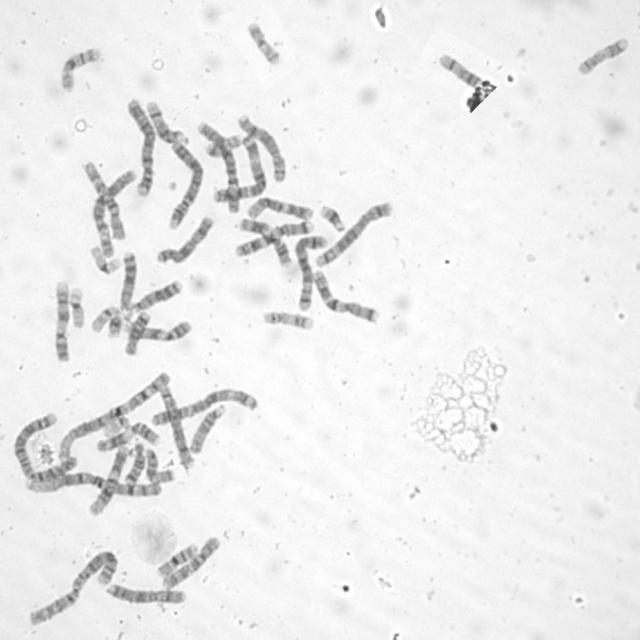A1: (54, 368, 174, 461), (22, 470, 164, 499)
A2: (23, 546, 122, 628), (11, 410, 76, 486)
A3: (148, 385, 260, 427), (209, 133, 266, 204)
B4: (165, 137, 205, 231), (123, 96, 157, 200)
B5: (311, 197, 396, 270), (291, 231, 328, 313)
C10: (193, 118, 242, 216), (158, 532, 222, 592)
C11: (236, 220, 292, 274), (93, 418, 162, 453)
C12: (89, 446, 132, 513), (244, 194, 316, 220)
C6: (89, 164, 138, 258), (78, 156, 126, 242)
C7: (309, 266, 382, 326), (231, 215, 314, 258)
C8: (234, 112, 288, 185), (156, 381, 196, 469)
C9: (122, 314, 193, 342), (51, 277, 72, 364)
D13: (129, 276, 183, 314), (116, 247, 138, 313)
D14: (144, 98, 190, 146), (436, 50, 483, 88)
D15: (186, 400, 228, 456), (142, 446, 176, 485)
E16: (56, 44, 102, 94), (153, 541, 200, 578)
E17: (574, 34, 630, 77), (260, 307, 316, 332)
E18: (122, 308, 152, 357), (123, 440, 147, 487)
F19: (88, 241, 122, 276), (68, 285, 86, 330)
F20: (245, 18, 282, 66), (205, 131, 248, 158)
G21: (318, 201, 347, 233), (106, 309, 122, 339)
G22: (87, 302, 119, 334), (99, 412, 133, 437)
X: (153, 213, 216, 266), (104, 580, 187, 605)
